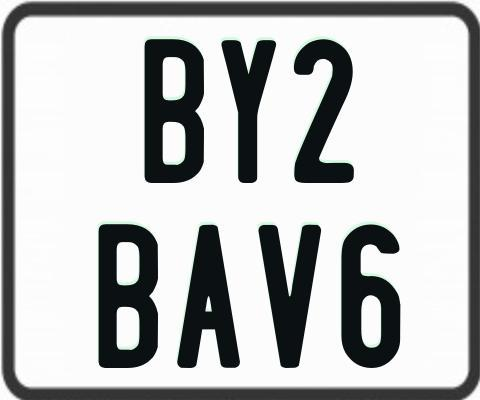2: (293, 39, 354, 185)
6: (341, 222, 406, 370)
A: (177, 225, 242, 370)
B: (96, 223, 161, 370), (145, 39, 207, 186)
V: (259, 223, 321, 367)
Y: (219, 37, 280, 180)
